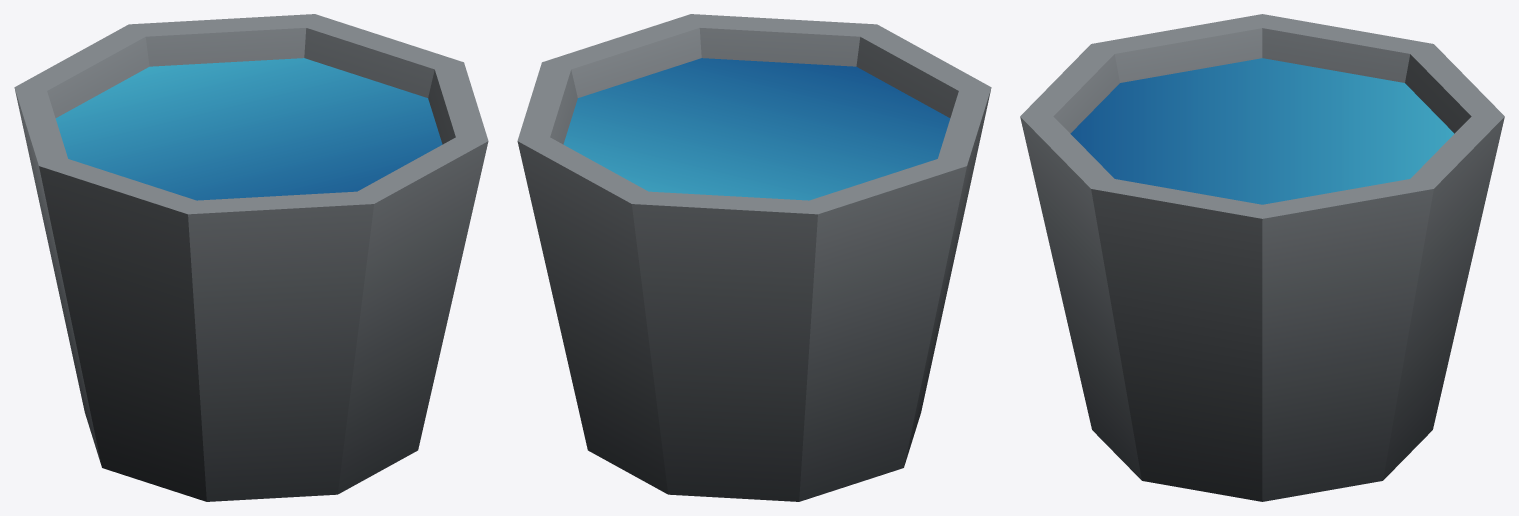
The model's file is waterBucket.fbx.
3 renders of one model, left to right at view 1: azimuth 30°, elevation 25°; view 2: azimuth 150°, elevation 25°; view 3: azimuth 270°, elevation 25°, orthographic.
Visible parts, largest first — view 1: bucket; view 2: bucket; view 3: bucket.
Part boxes in pixels (<box>): bucket: <box>14,14,488,501</box>; bucket: <box>517,14,991,501</box>; bucket: <box>1020,14,1504,501</box>.
Size of the model in its own units: 71.35 by 50.91 by 71.35.
